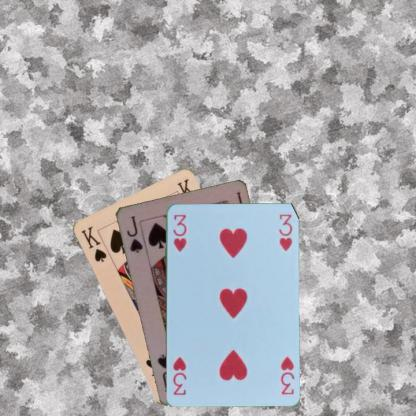3h: (170, 212, 188, 252), (278, 353, 295, 395)
Js: (124, 213, 144, 254)
Ks: (78, 223, 108, 263)
